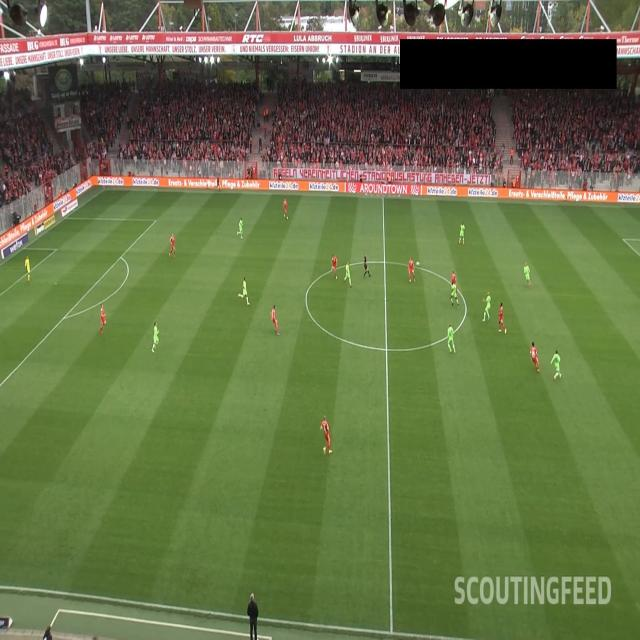ball: (416, 261, 420, 265)
